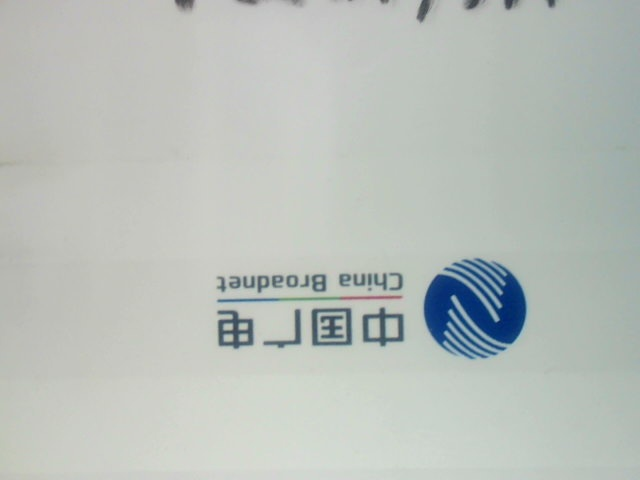AW_ChinaBroadNet: (181, 237, 541, 366)
